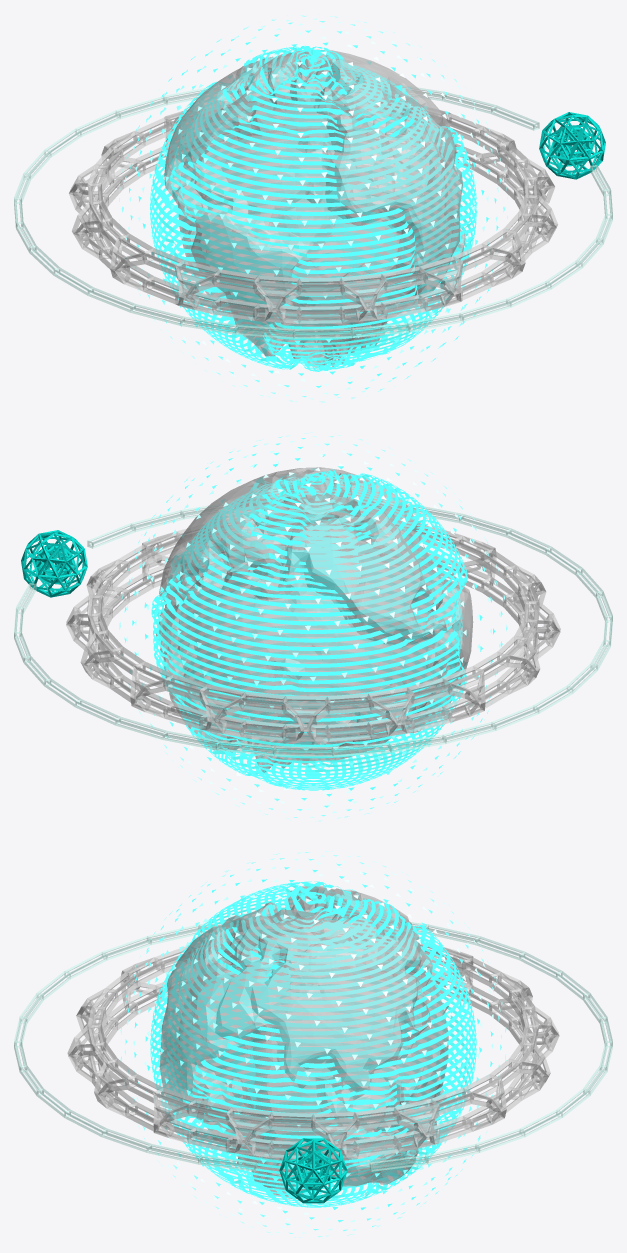
File: Earth.glb
3 renders of one model, top to bottom at view 1: azimuth 30°, elevation 25°; view 2: azimuth 150°, elevation 25°; view 3: azimuth 270°, elevation 25°, orthographic.
Visible parts, largest first — view 1: Circle.643; view 2: Circle.643; view 3: Circle.643.
Boxes of the visible parts, x1,y1,x2,y2 form: Circle.643: [14, 14, 612, 402]; Circle.643: [14, 432, 612, 821]; Circle.643: [14, 850, 612, 1238].
Size of the model in its own units: 12.94 by 7.98 by 12.3.
